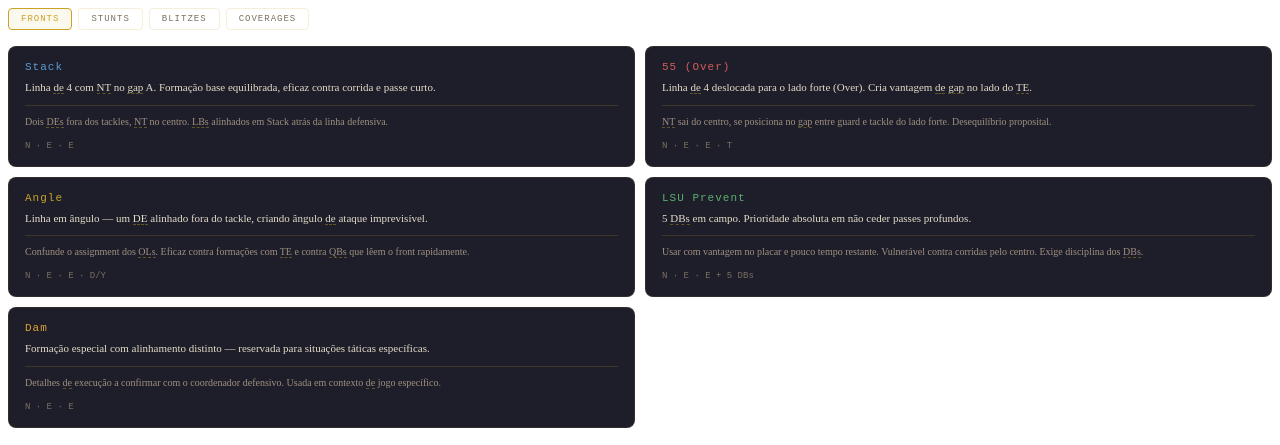
Test: DictionaryTab › muda para COVERAGES ao clicar
What coordinates should you click on to do the following:
click the button "COVERAGES"
I would click on:
 (267, 19)
Its box is [226,8,309,30].
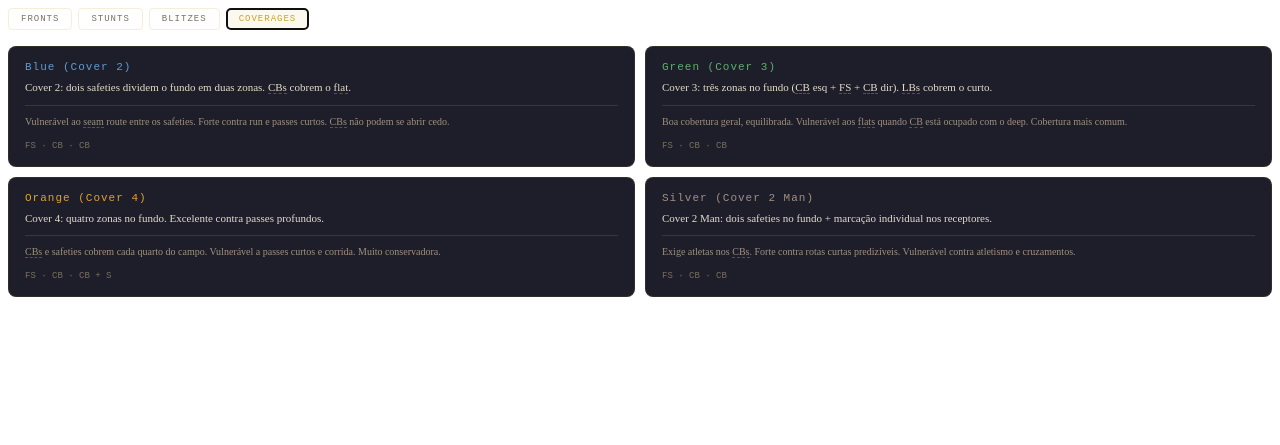
Check: the text "Blue (Cover 2)" is shown, box [25,61,131,73]
